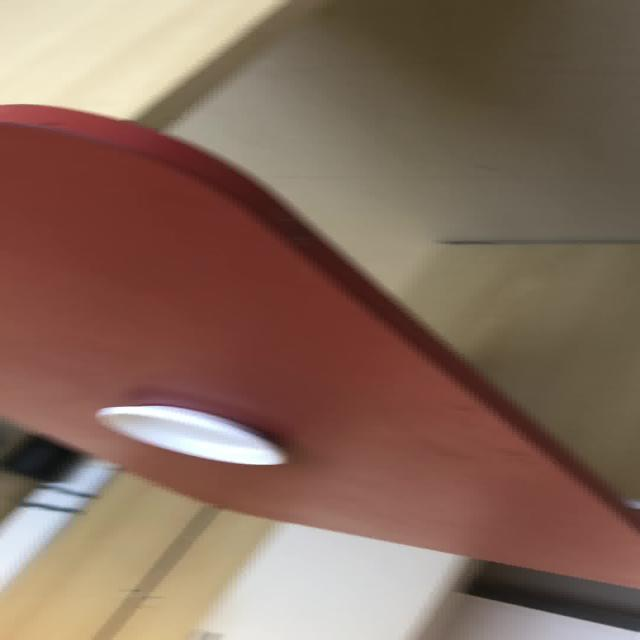plate: (1, 101, 637, 598), (93, 403, 289, 466)
